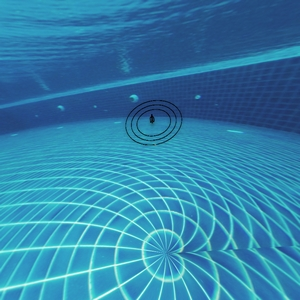circle: (116, 79, 196, 172)
